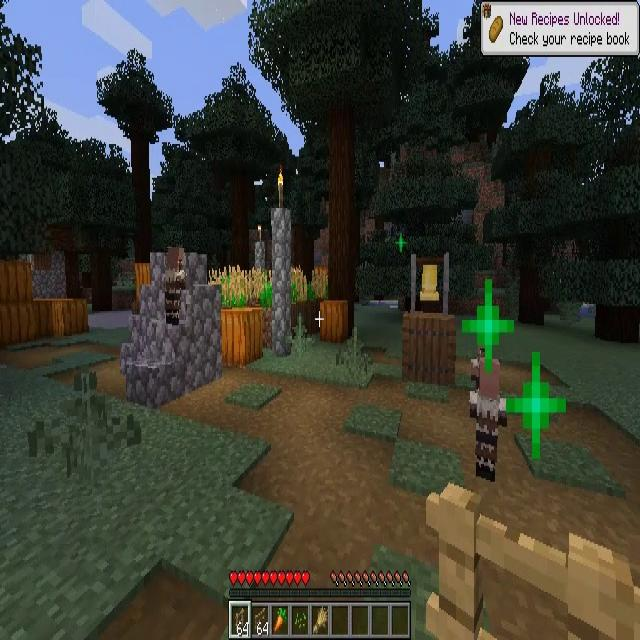people: (469, 358, 507, 481), (165, 248, 186, 324), (470, 343, 486, 388)
